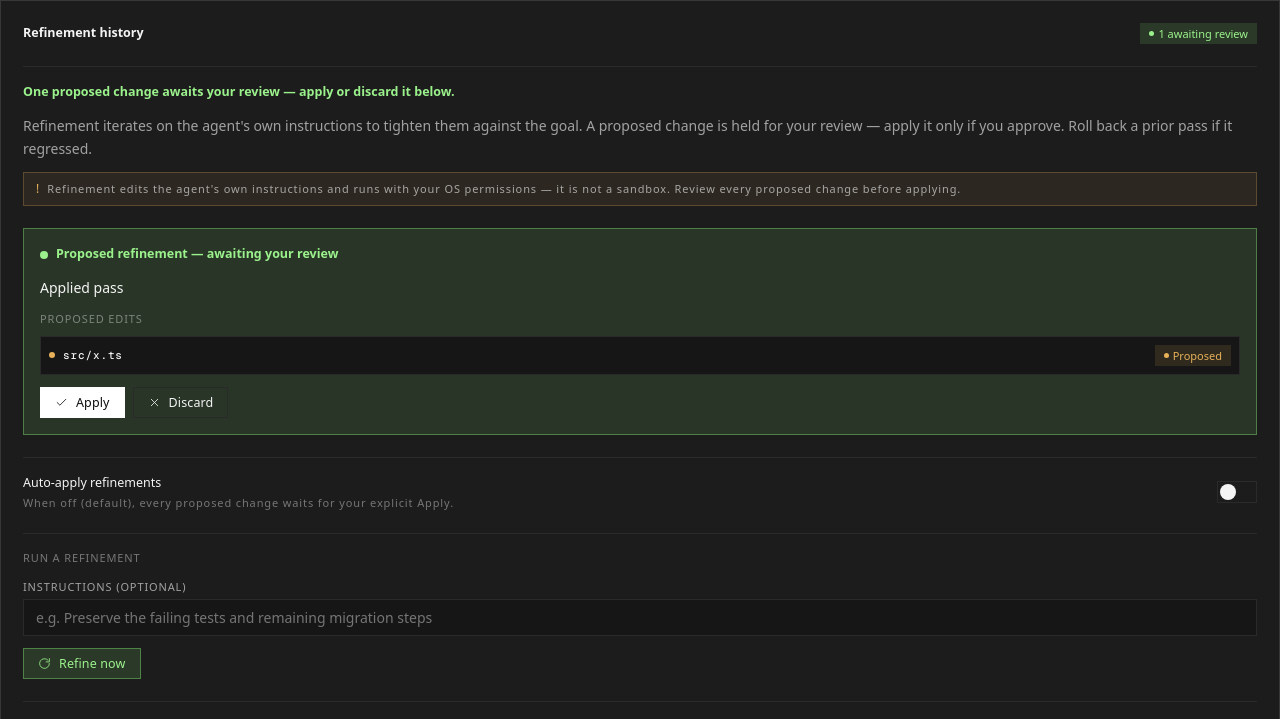
RefinementHistory › applying a pending proposal records it in the history as Applied
Click the button "Apply".
click(82, 402)  # box [40,387,125,418]
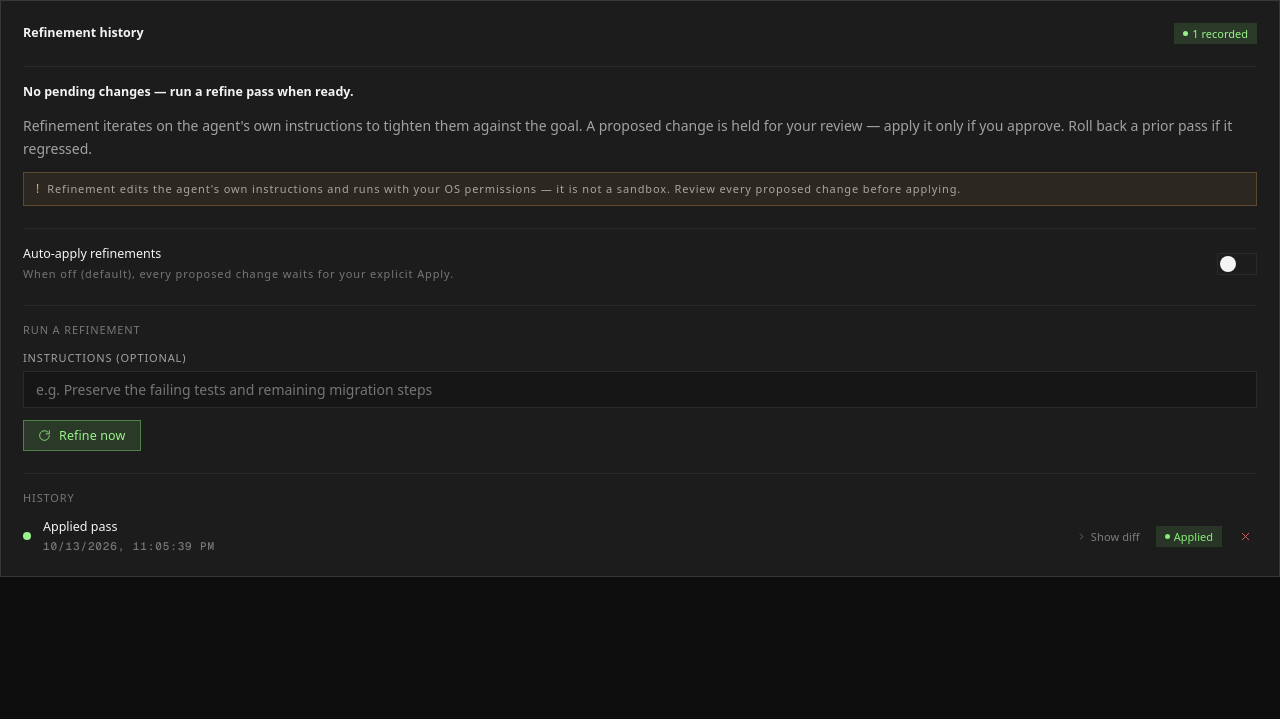
Expected: the text "Applied" is shown, [1156,526,1222,547]
Expected: the text "Proposed refinement" is gone
